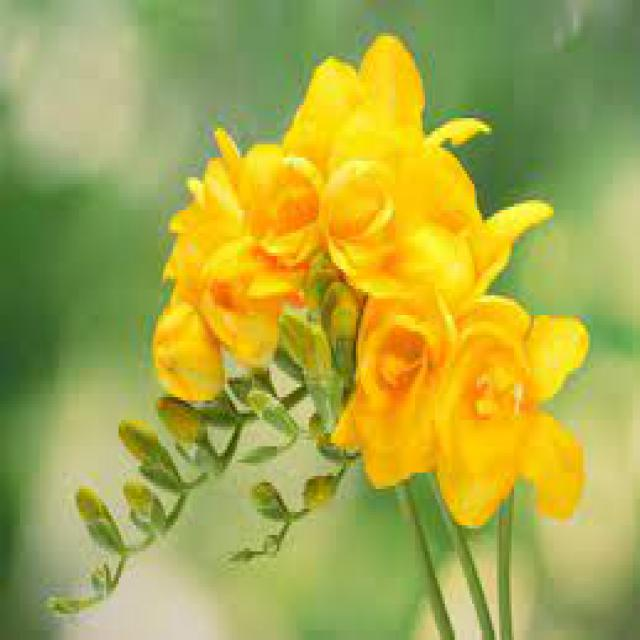freesia: (133, 35, 611, 542)
